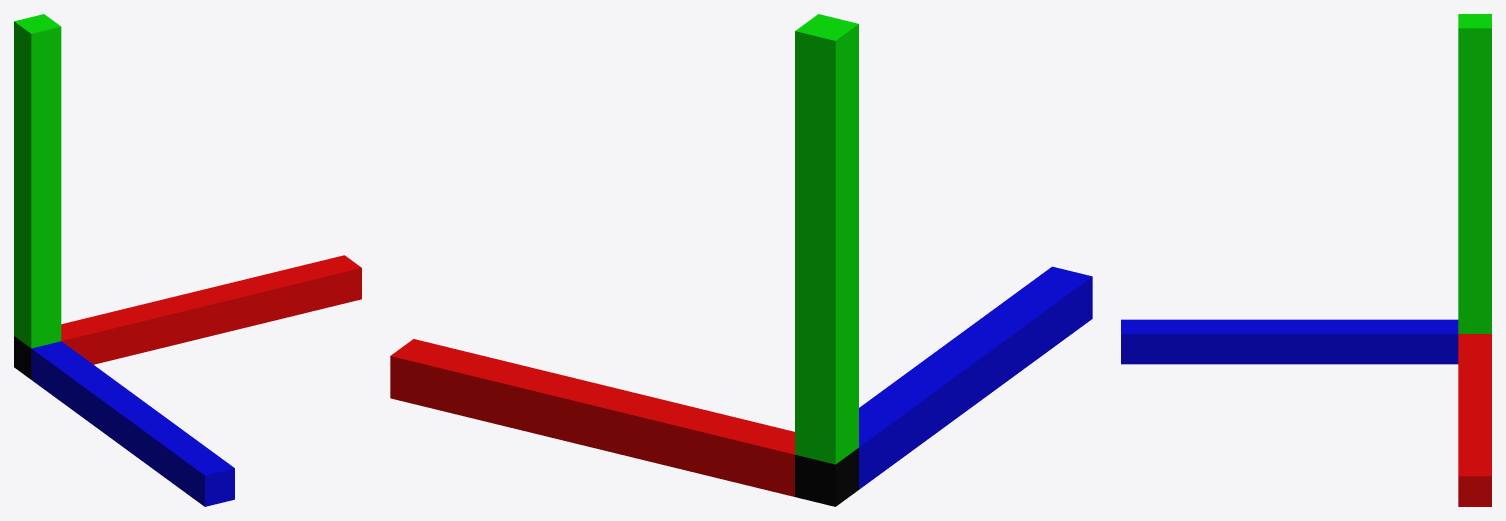
File: axis.fbx
3 views of the same model, side by side, from view 1: azimuth 30°, elevation 25°; view 2: azimuth 150°, elevation 25°; view 3: azimuth 270°, elevation 25° (orthographic). The views are drawn at different scales.
Visible parts, largest first — view 1: yAxis, xAxis, zAxis, cube; view 2: yAxis, xAxis, zAxis, cube; view 3: zAxis, yAxis, xAxis.
Part boxes in pixels (bbox=[...]): yAxis: bbox=[14, 14, 61, 348]; xAxis: bbox=[61, 255, 361, 364]; zAxis: bbox=[31, 341, 234, 506]; cube: bbox=[14, 336, 31, 379]; yAxis: bbox=[795, 14, 858, 464]; xAxis: bbox=[390, 339, 794, 496]; zAxis: bbox=[859, 266, 1092, 489]; cube: bbox=[795, 448, 858, 506]; zAxis: bbox=[1121, 319, 1458, 364]; yAxis: bbox=[1458, 14, 1491, 333]; xAxis: bbox=[1458, 334, 1491, 506].
Bounding box in the file's own units: 5.5 × 5.5 × 5.5.
